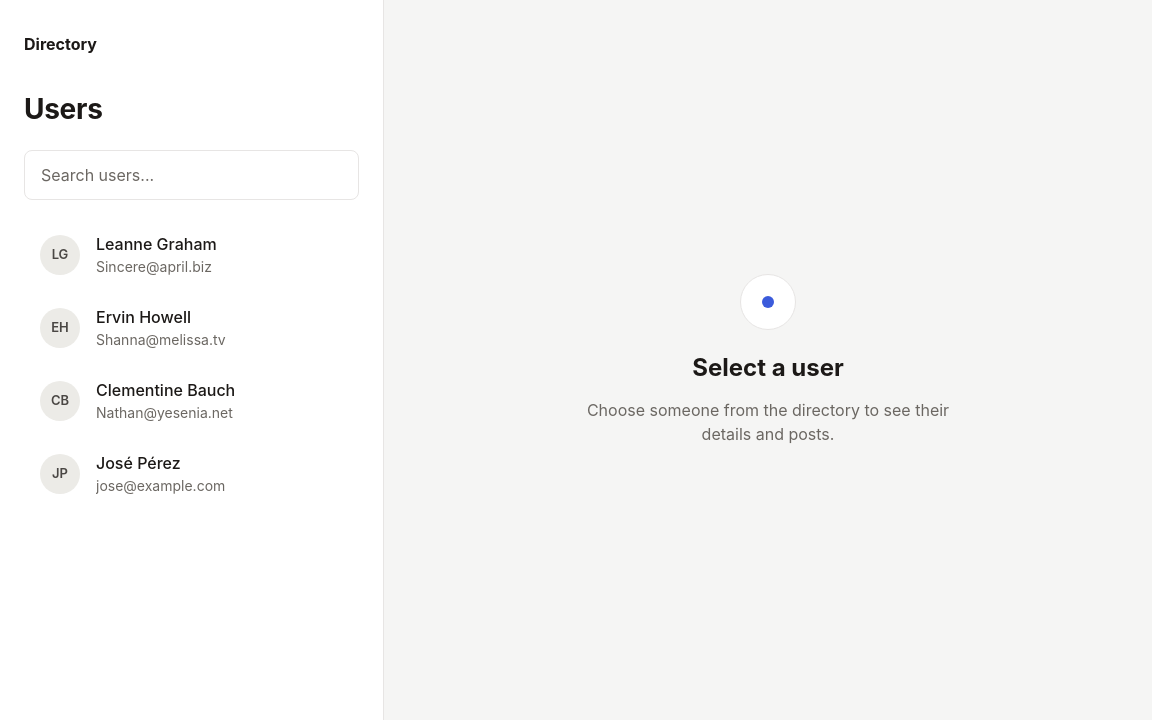
Test case: User posts › ignores a slow response from a previously selected user (race condition)
Click the button "LG Leanne Graham Sincere@april.biz" at (192, 254), box [24,220,359,289]
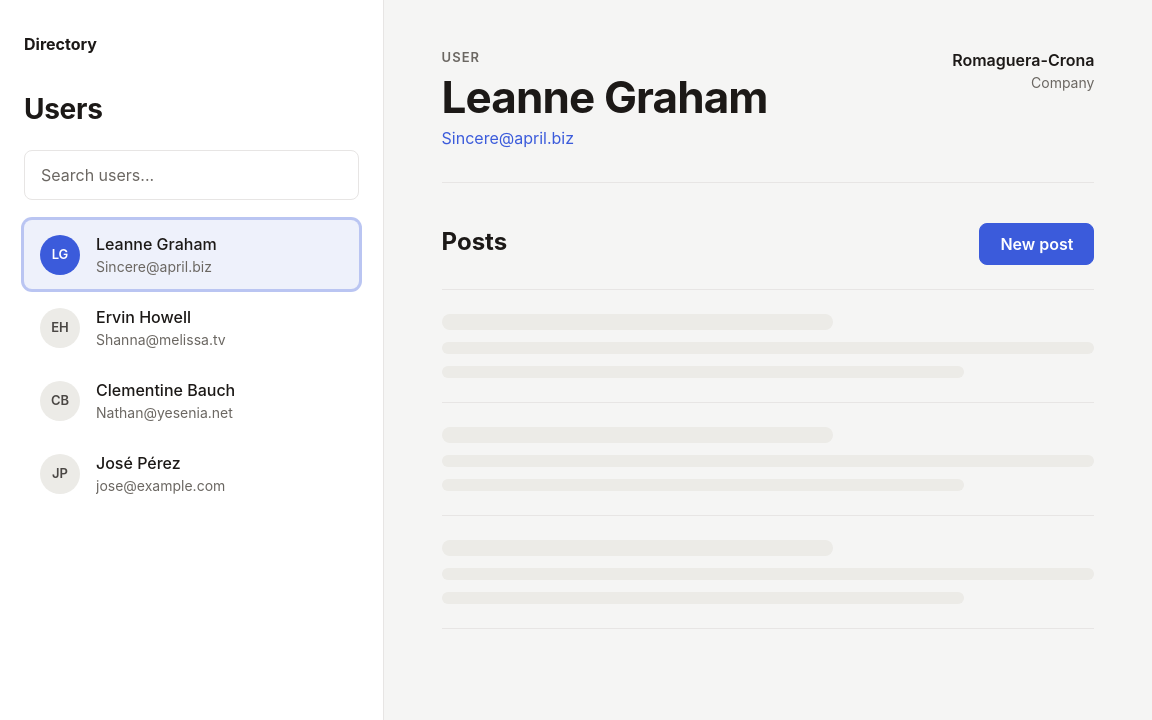
Click the button "EH Ervin Howell Shanna@melissa.tv" at (192, 328), box [24,293,359,362]
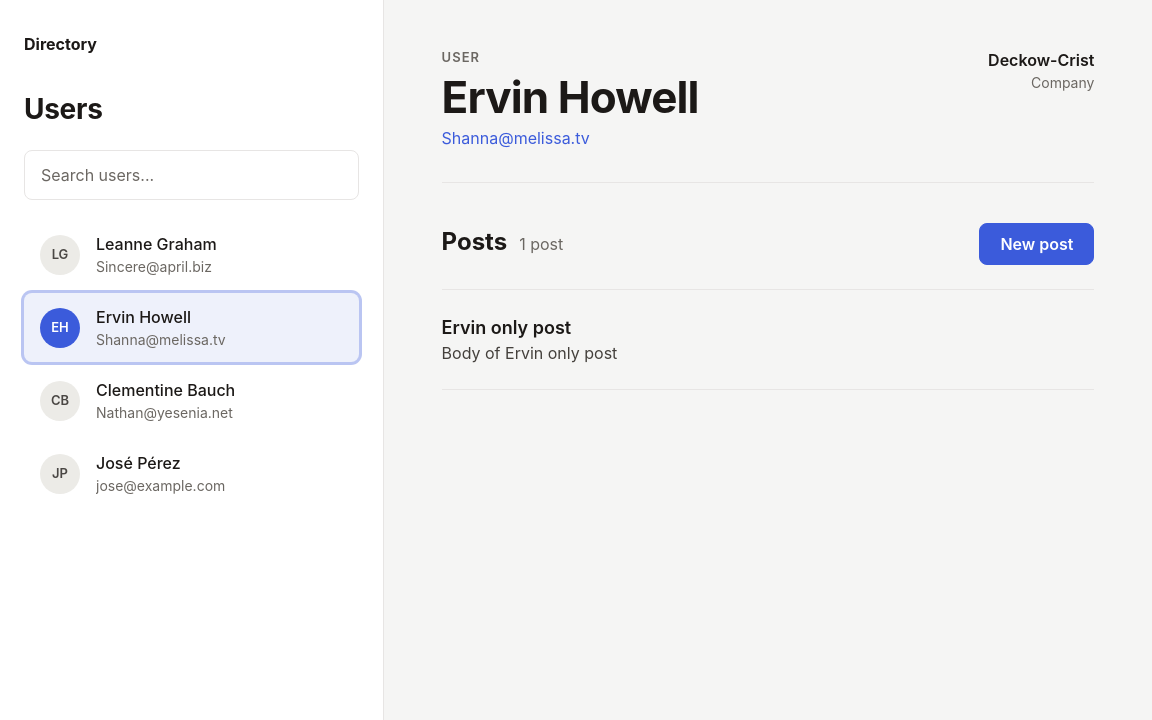
Result: the heading "Ervin only post" is shown at [442,317,571,338]
Result: the heading "Ervin Howell" is shown at [442,72,699,122]
